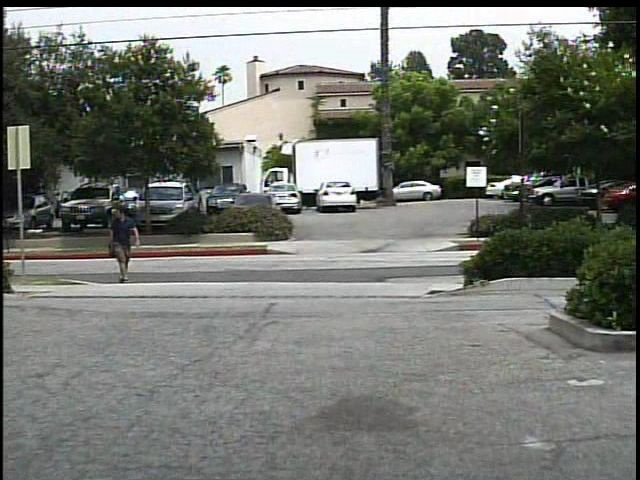person: (106, 201, 144, 284)
